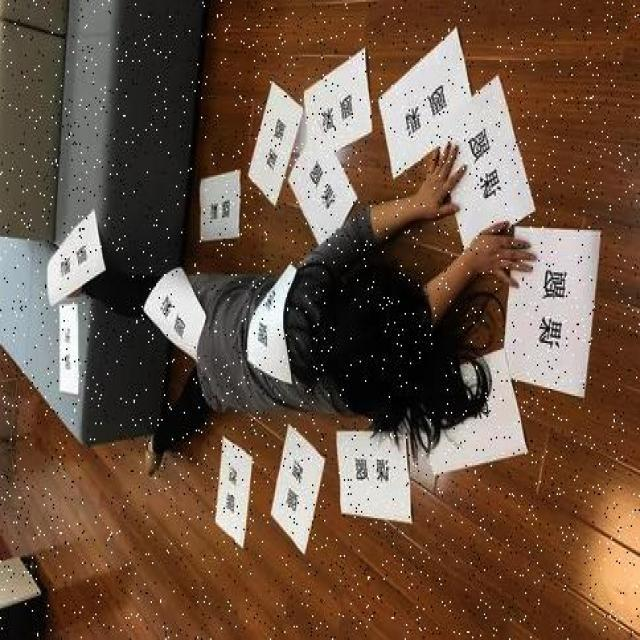fall: (114, 154, 518, 472)
